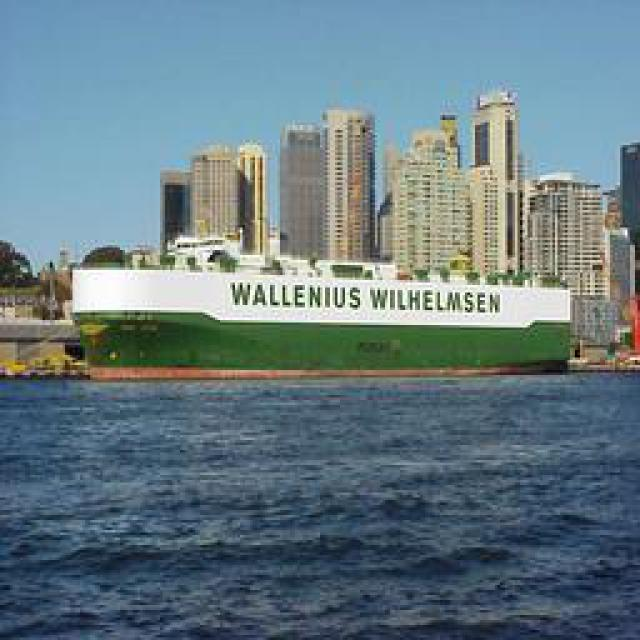Ship: (74, 255, 584, 380)
